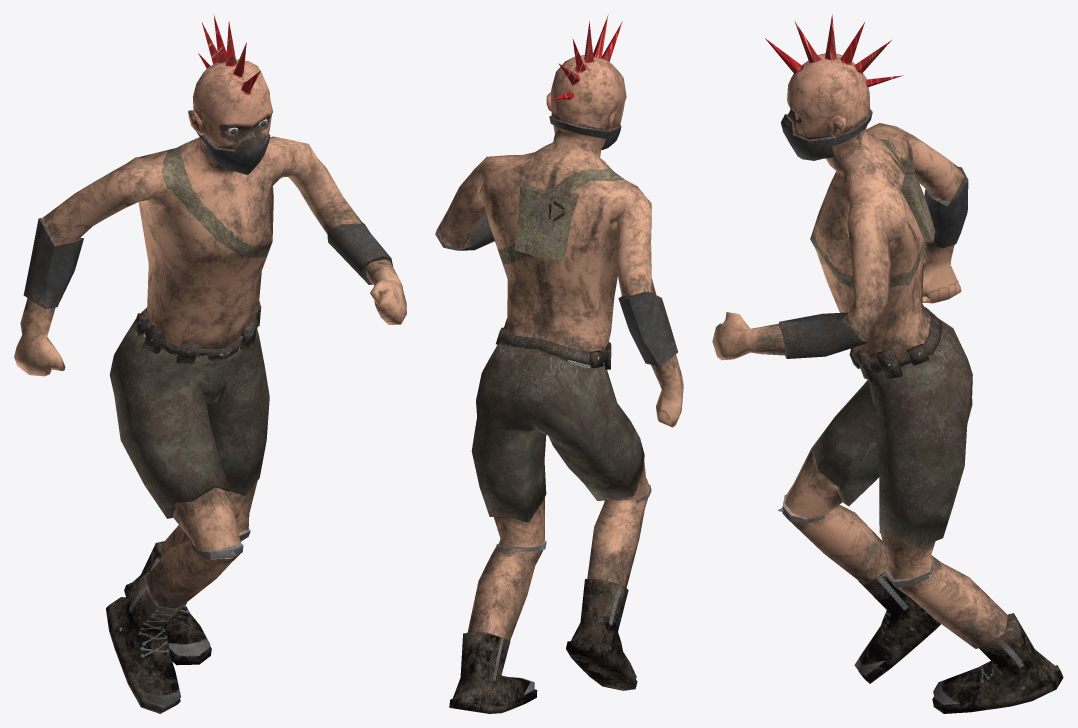
The model's file is Anim_correr_npc2.0028.obj.
The picture shows the model from 3 angles, left to right: view 1: azimuth 30°, elevation 25°; view 2: azimuth 150°, elevation 25°; view 3: azimuth 270°, elevation 25°; orthographic projection. The views are drawn at different scales.
Visible parts, largest first — view 1: Anim_correr_npc2; view 2: Anim_correr_npc2; view 3: Anim_correr_npc2.
Boxes of the visible parts, x1,y1,x2,y2 form: Anim_correr_npc2: [14, 14, 406, 713]; Anim_correr_npc2: [435, 15, 683, 713]; Anim_correr_npc2: [712, 14, 1063, 713].
Size of the model in its own units: 4.43 by 9.59 by 4.44.
